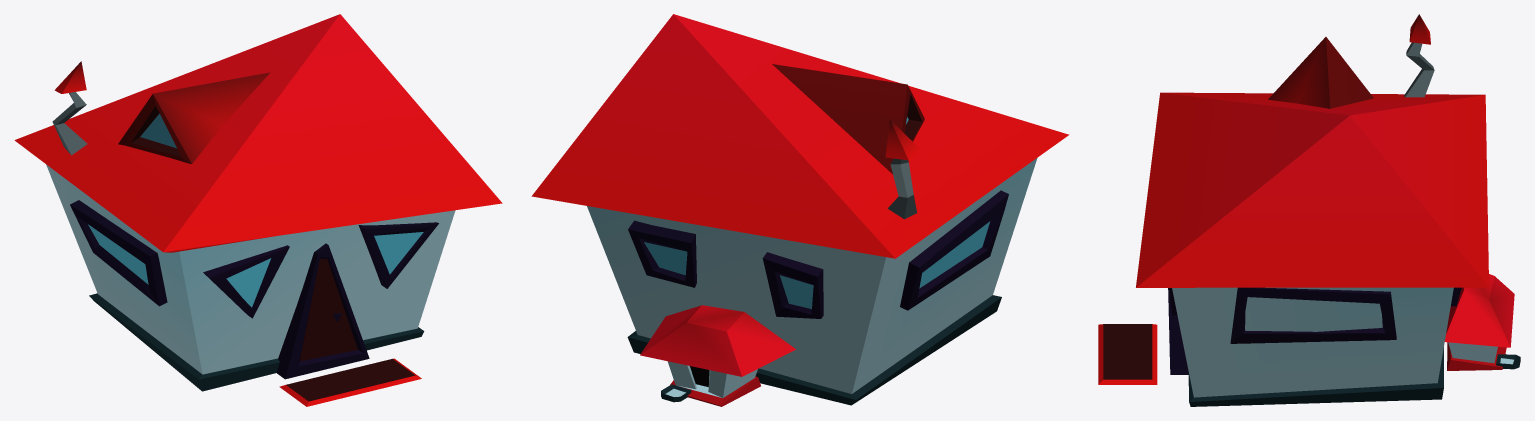
File: testHouse_A.fbx
The picture shows the model from 3 angles, left to right: view 1: azimuth 30°, elevation 25°; view 2: azimuth 150°, elevation 25°; view 3: azimuth 270°, elevation 25°; orthographic projection. The views are drawn at different scales.
Parts seen in each view (by area): view 1: x_house_aa; view 2: x_house_aa; view 3: x_house_aa.
Part boxes in pixels (<box>): x_house_aa: <box>14,14,502,406</box>; x_house_aa: <box>531,14,1069,406</box>; x_house_aa: <box>1098,14,1520,406</box>.
Bounding box in the file's own units: 6.88 × 5.4 × 7.18.
